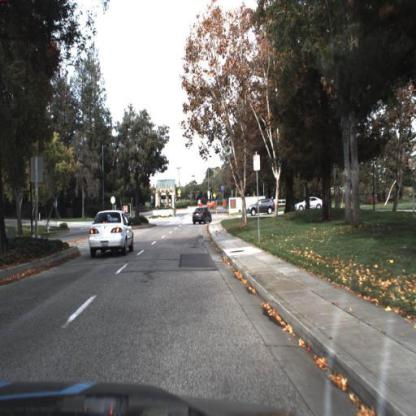car: (87, 210, 135, 258), (245, 193, 277, 220), (292, 193, 324, 212), (295, 195, 325, 213), (191, 207, 214, 225)
